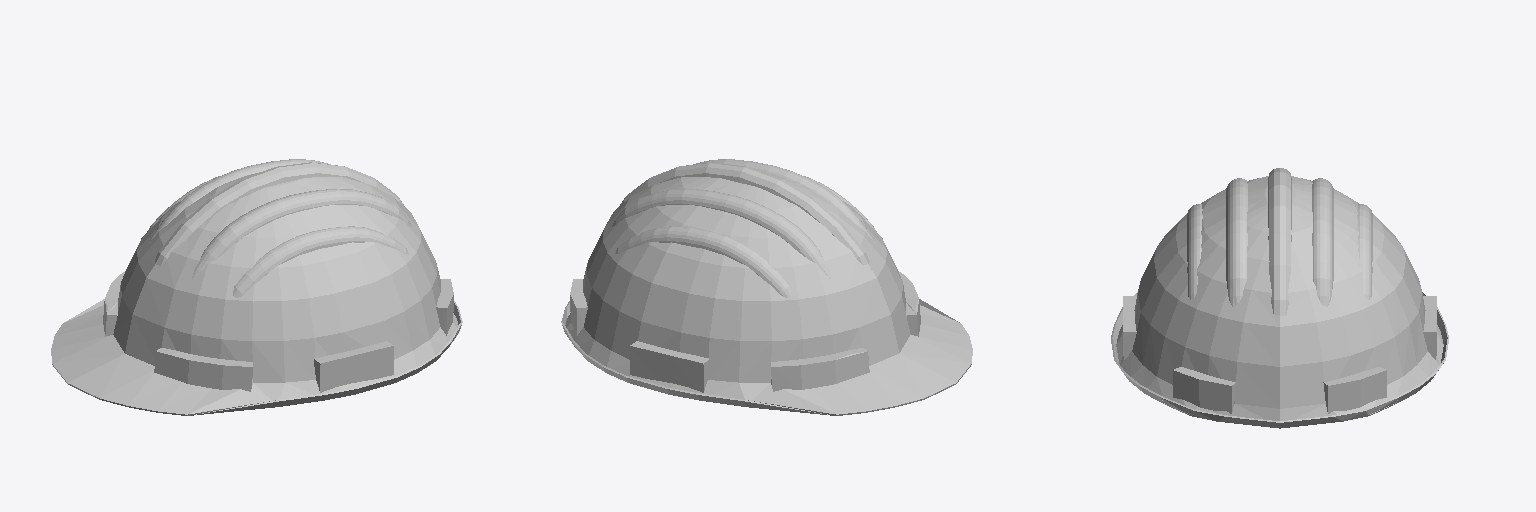
File: helmet.obj
3 views of the same model, side by side, from view 1: azimuth 30°, elevation 25°; view 2: azimuth 150°, elevation 25°; view 3: azimuth 270°, elevation 25° (orthographic).
Visible parts, largest first — view 1: helmet; view 2: helmet; view 3: helmet.
Part boxes in pixels (bbox=[...]): helmet: bbox=[51, 159, 462, 415]; helmet: bbox=[561, 159, 972, 415]; helmet: bbox=[1111, 168, 1448, 428].
Bounding box in the file's own units: 0.7101 × 0.2983 × 0.5527.